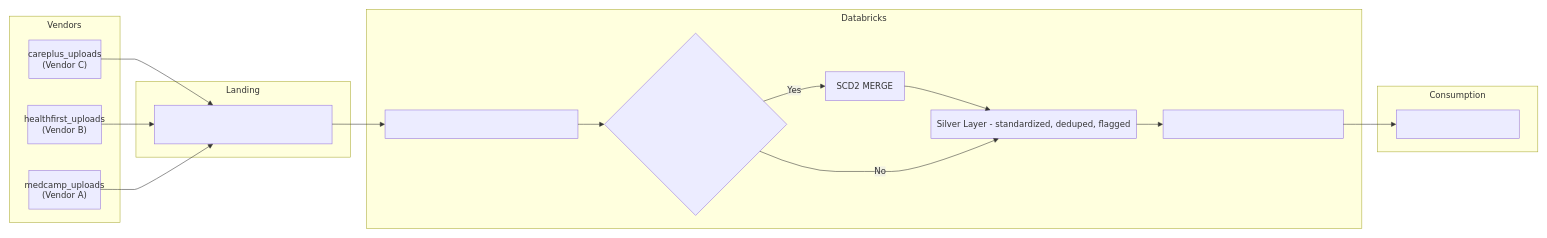
The diagram is 1547 pixels wide and 238 high, and some of its shapes have lost their labels. Here are the shapes that lost their labels. From the top down, the centre of each, then its label:
At (243,124): "Databricks Volume (simulates SharePoint to Blob Storage)".
At (481,124): "Bronze Layer - raw ingestion, append-only".
At (695,124): "Company attribute changed?".
At (1253,124): "Gold Layer - business-ready aggregates".
At (1457,124): "Power BI / Stakeholders".
